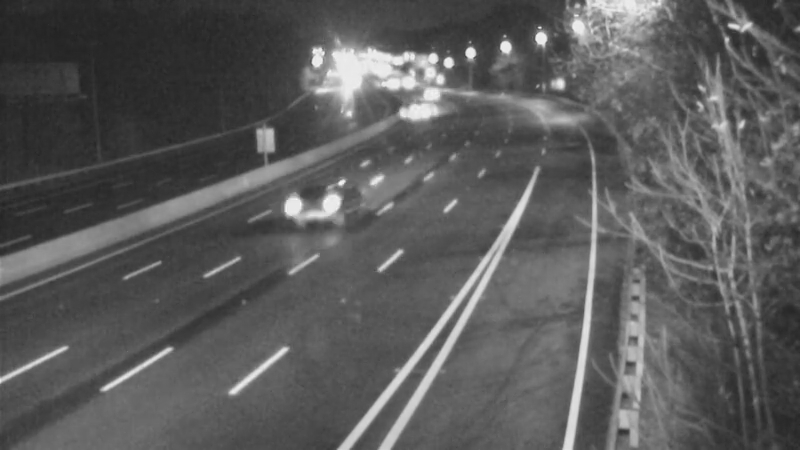vehicle: (284, 158, 364, 238), (410, 68, 460, 118), (396, 86, 446, 136)
